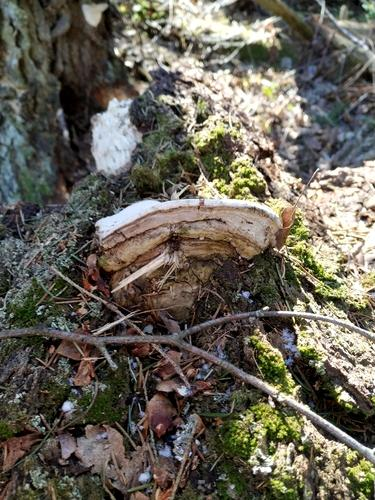Ganoderma - Fruit Body: (86, 192, 281, 331)
